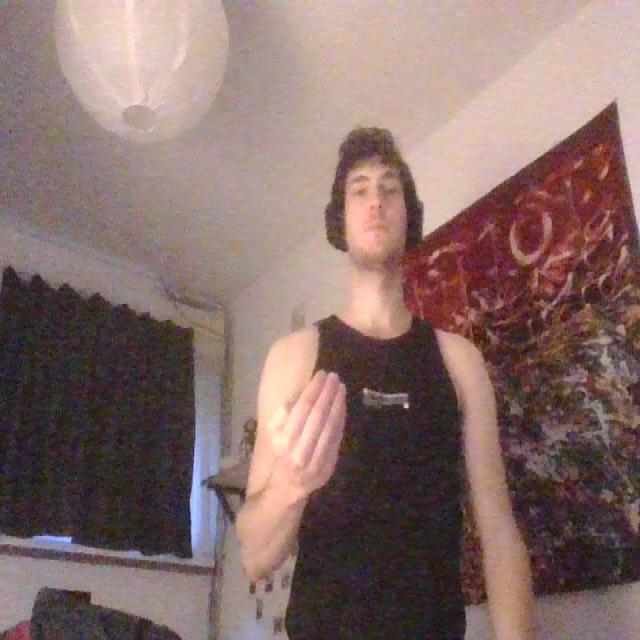forward: (266, 364, 353, 506)
